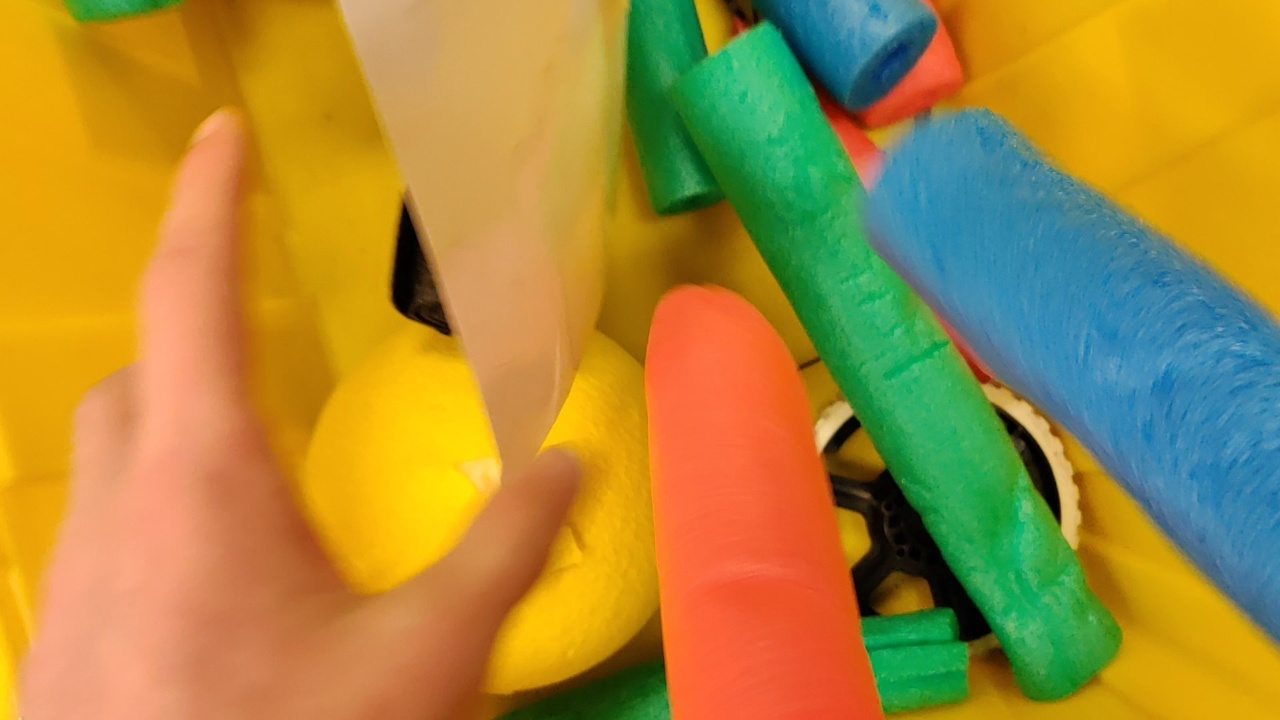Ball: (306, 321, 655, 688)
